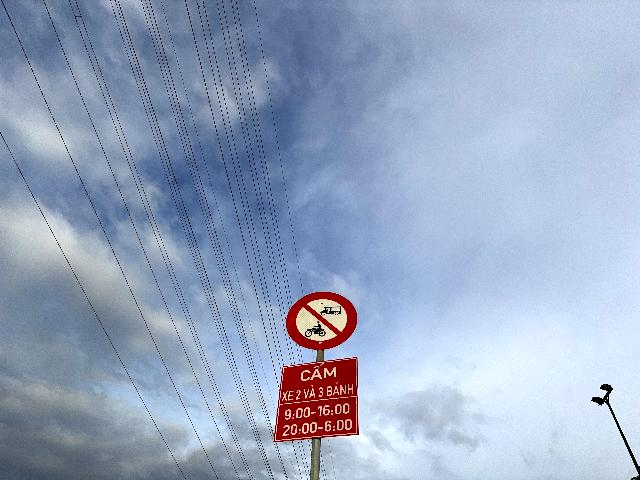cam-xe-2-banh-3-banh: (286, 291, 357, 350)
